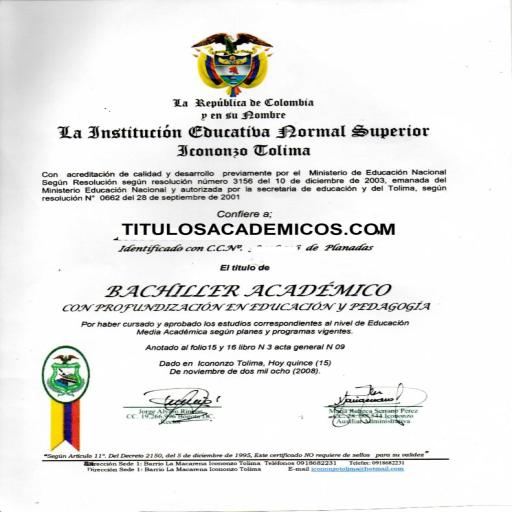bachillerato: (81, 278, 409, 302)
diploma: (0, 0, 511, 511)
escudo: (176, 26, 286, 101)
firma: (319, 374, 445, 435), (117, 379, 230, 431)
institucion: (40, 118, 442, 164)
